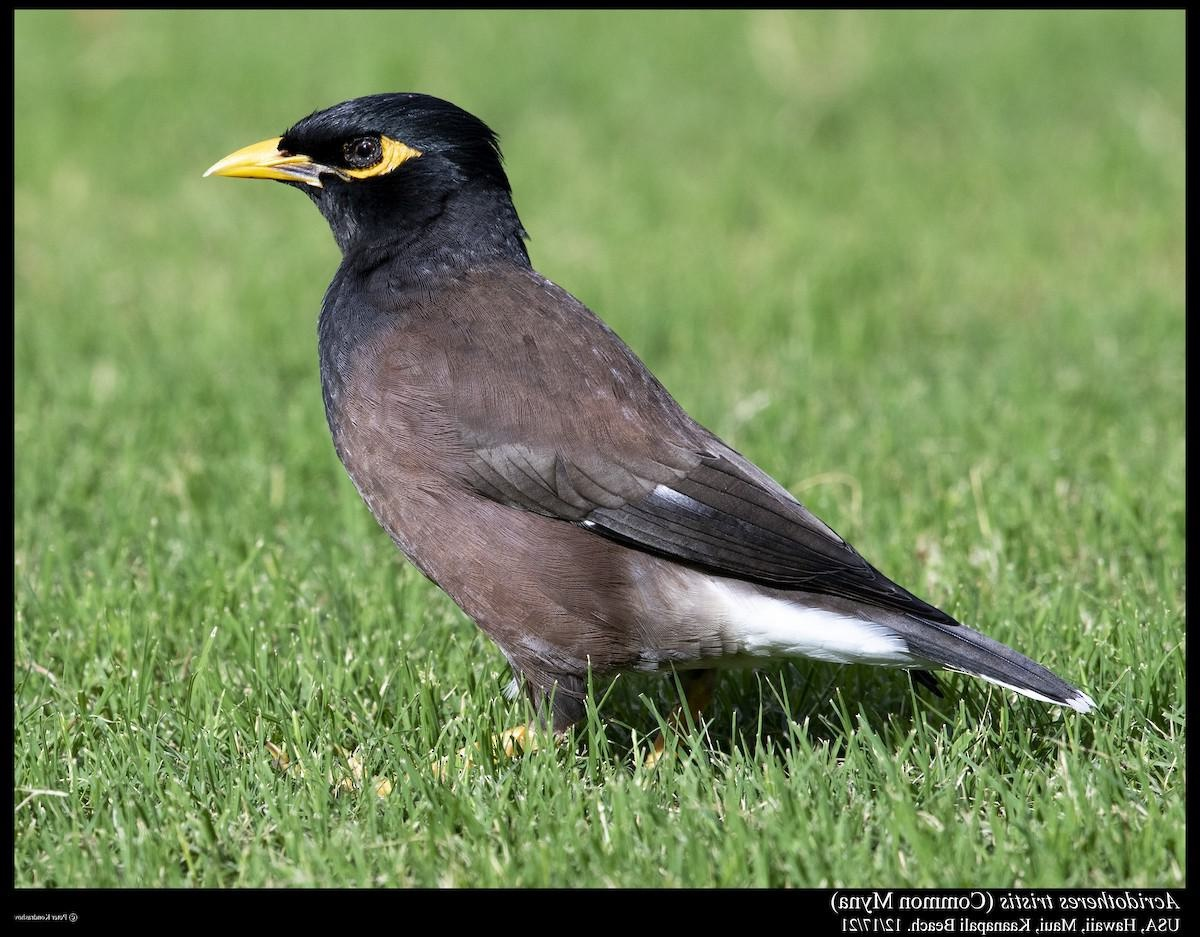myna: (224, 80, 1041, 719)
